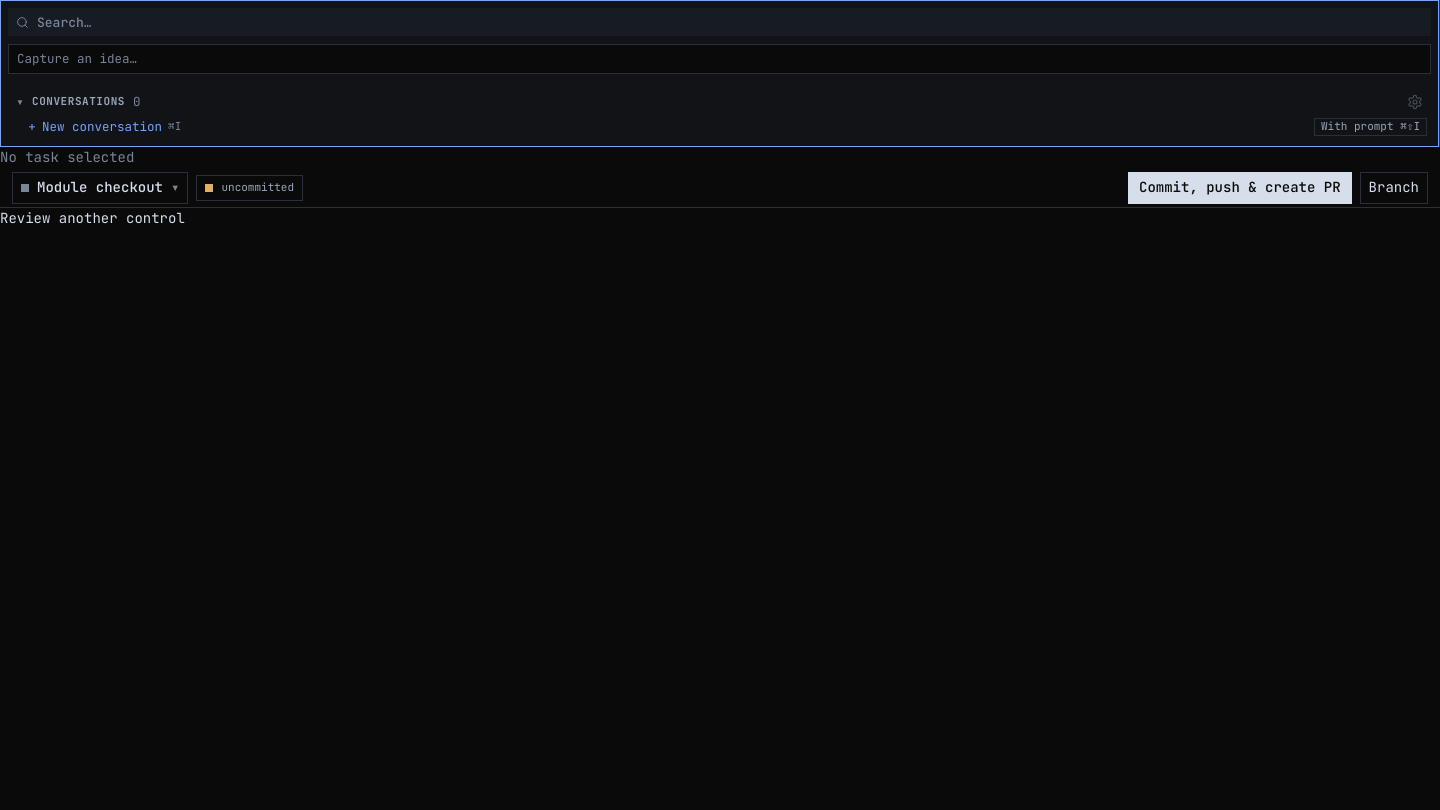
overhaul acceptance - stacked Changes actions › identifies the PR step when a stacked rejection has no Error message
Click the button "Commit, push & create PR": click(1240, 188) [1128,172,1352,204]
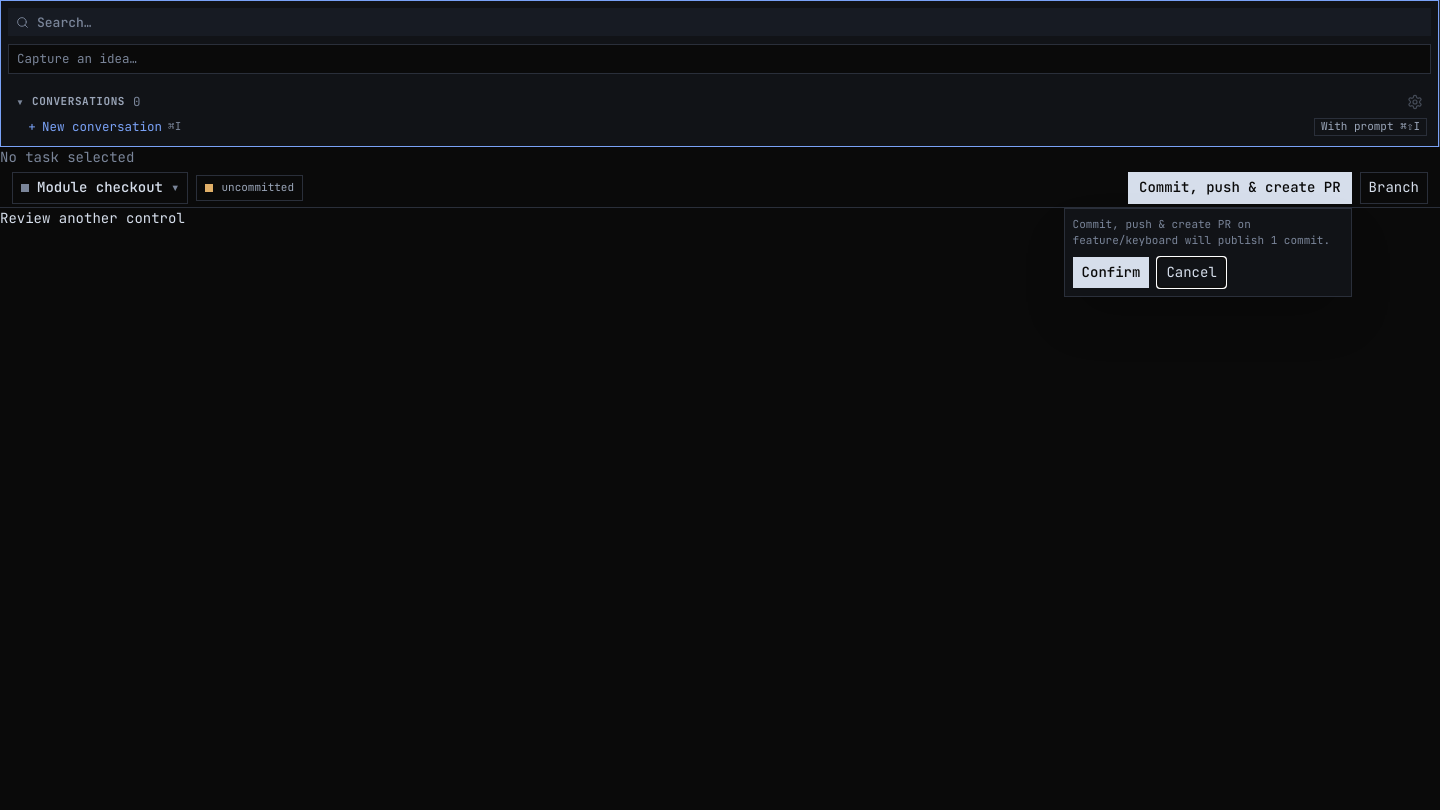
Click the button "Confirm": click(1111, 273) [1073,257,1149,288]
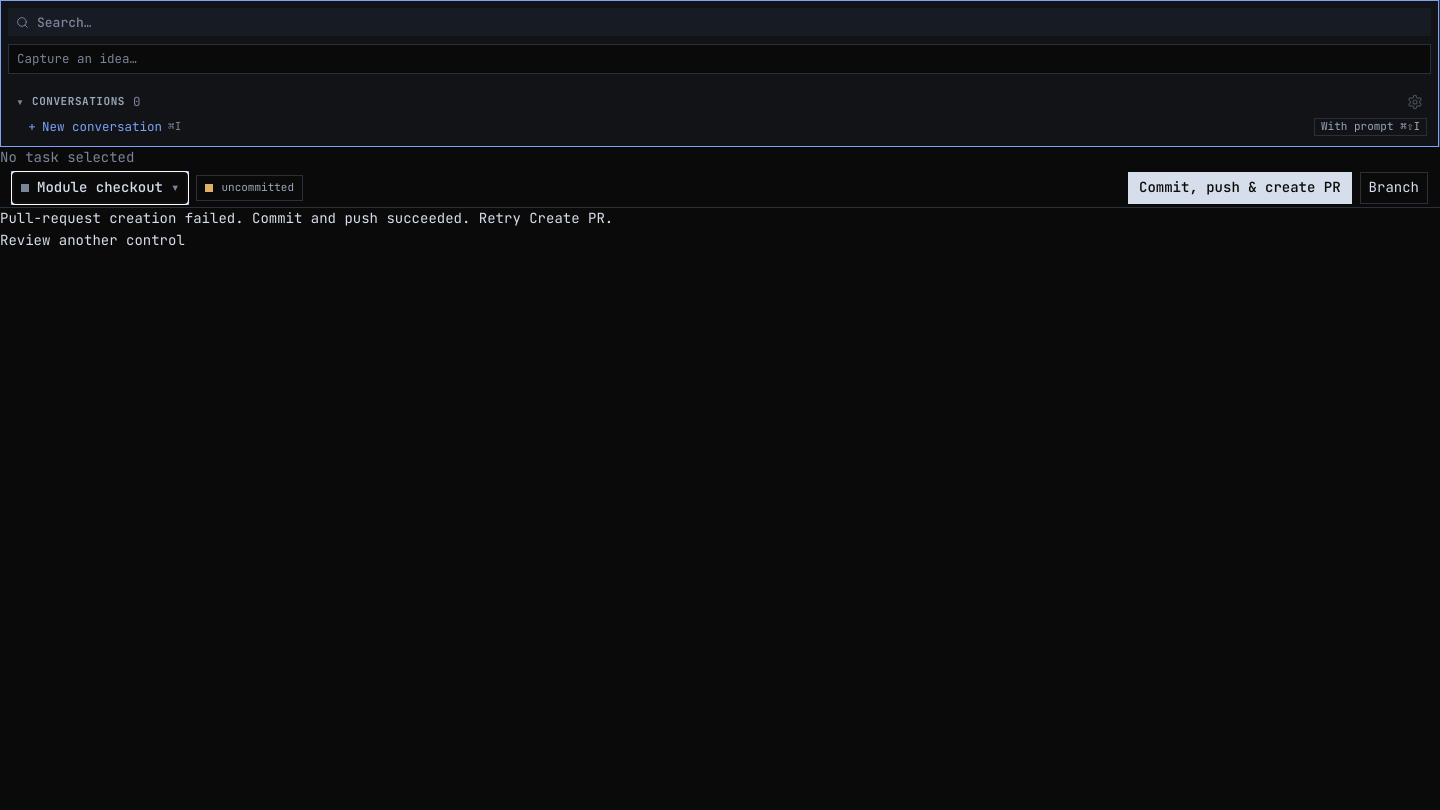
Expected: the message reads "Pull-request creation failed. Commit and push succeeded. Retry Create PR.", [0,209,613,227]
